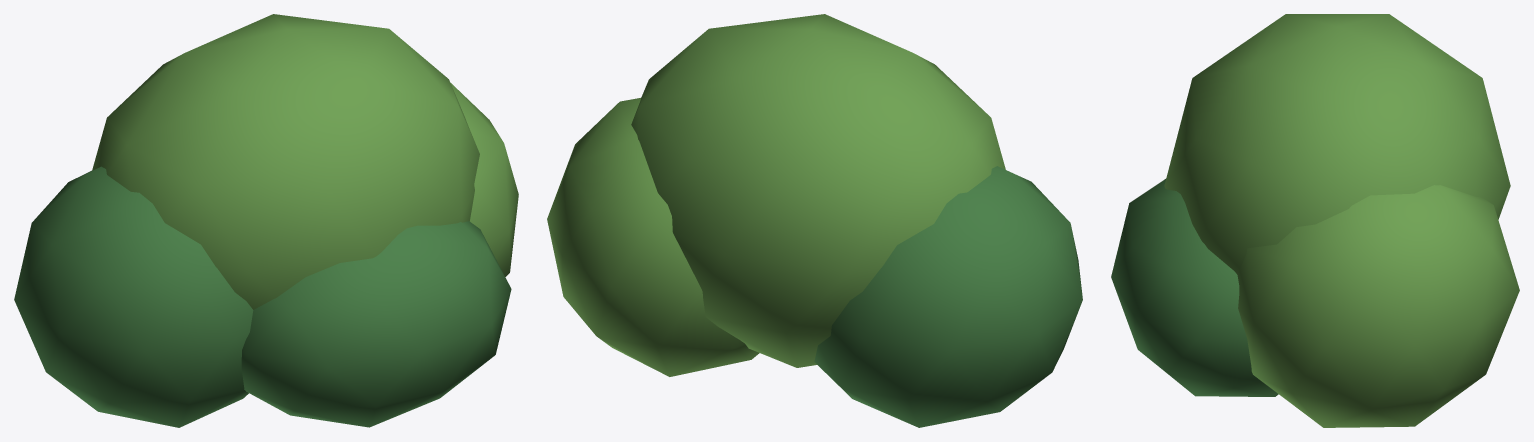
Rendered from shrub_clump_small_01.glb.
The picture shows the model from 3 angles, left to right: view 1: azimuth 30°, elevation 25°; view 2: azimuth 150°, elevation 25°; view 3: azimuth 270°, elevation 25°; orthographic projection.
Visible parts, largest first — view 1: shrub_clump_small_01; view 2: shrub_clump_small_01; view 3: shrub_clump_small_01.
Boxes of the visible parts, box(x1,y1,x2,y2) form: shrub_clump_small_01: box(14, 14, 518, 427); shrub_clump_small_01: box(547, 14, 1082, 427); shrub_clump_small_01: box(1111, 14, 1519, 427).
Bounding box in the file's own units: 0.5544 × 0.396 × 0.4193.
